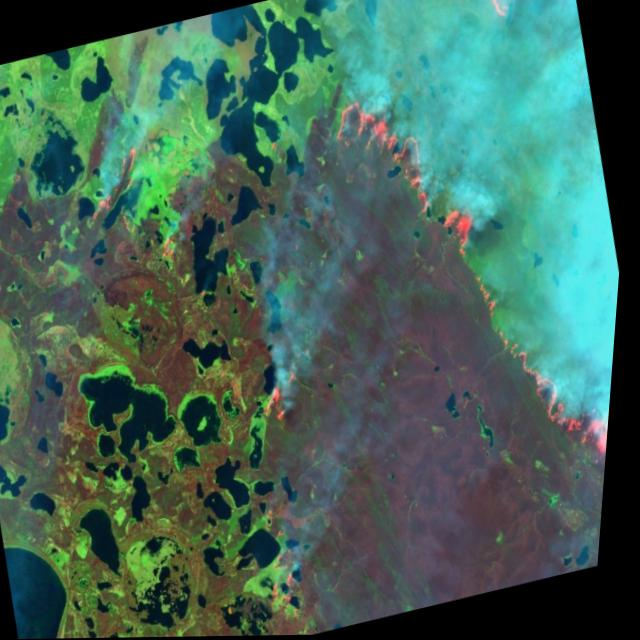fire: (270, 0, 640, 614), (245, 481, 328, 630), (244, 349, 331, 454), (73, 131, 161, 229)
